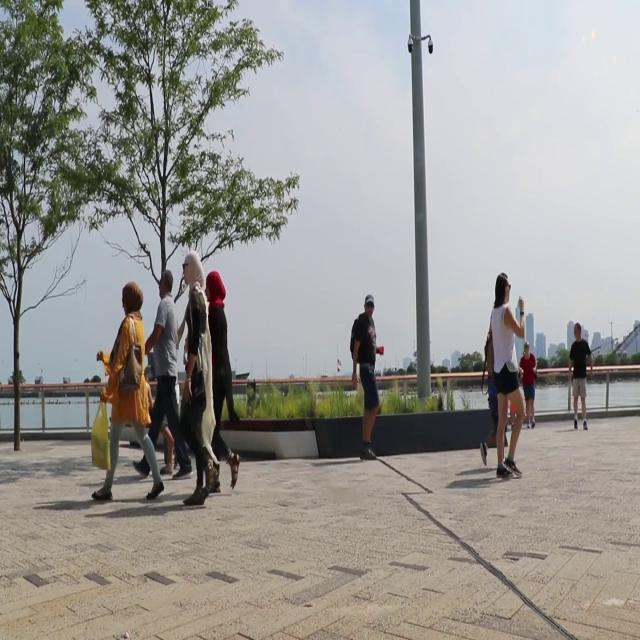normal: (99, 279, 165, 507), (485, 268, 531, 487), (180, 255, 220, 505), (348, 288, 387, 467), (567, 319, 594, 431)
